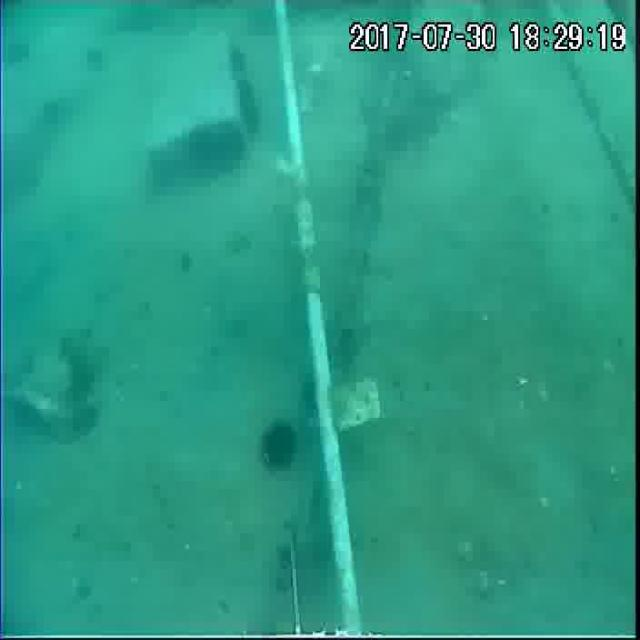echinus: (255, 418, 301, 476), (70, 398, 102, 438), (68, 360, 99, 398), (0, 35, 32, 71), (223, 44, 249, 74), (39, 99, 63, 128), (242, 102, 263, 134), (235, 79, 258, 108), (83, 46, 107, 72)
